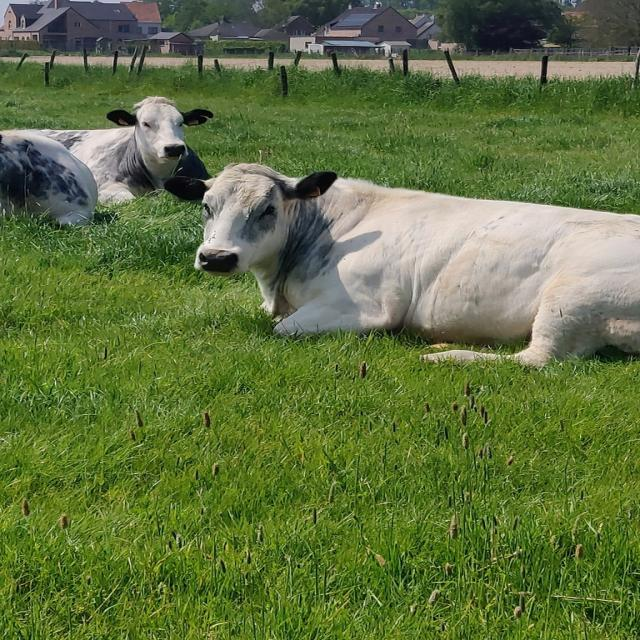cow: (165, 164, 640, 366), (30, 96, 212, 202), (0, 134, 98, 224)
